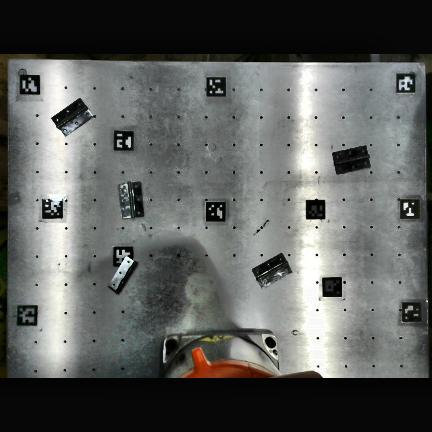hinge: (52, 99, 93, 136), (252, 254, 292, 288), (333, 146, 370, 173), (109, 257, 137, 292), (119, 182, 143, 218)
marker: (17, 304, 38, 325), (113, 246, 133, 267), (400, 198, 420, 219), (42, 198, 62, 218), (114, 130, 134, 150), (206, 75, 226, 95), (403, 300, 422, 321), (206, 201, 225, 222), (20, 75, 40, 94), (396, 73, 415, 93), (306, 200, 325, 219), (323, 278, 342, 296)
